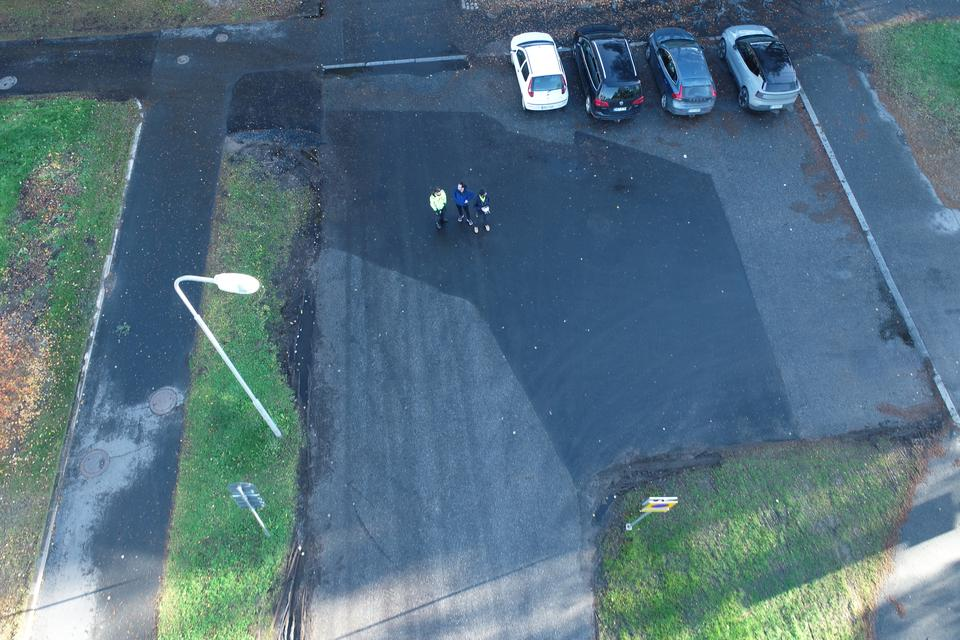intersection: (0, 0, 435, 187)
